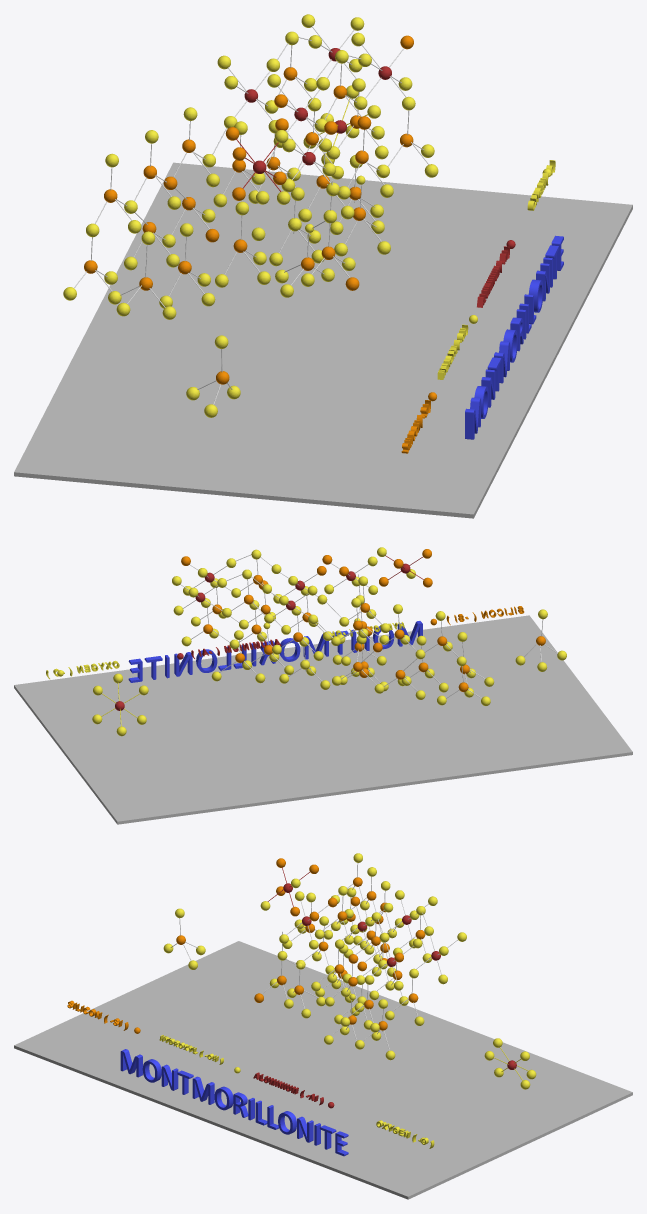
File: Bentonite.glb
3 renders of one model, top to bottom at view 1: azimuth 30°, elevation 25°; view 2: azimuth 150°, elevation 25°; view 3: azimuth 270°, elevation 25°, orthographic. The views are drawn at different scales.
Parts seen in each view (by area): view 1: Mesh.300, Group001, Mesh.215, Allumina__1_, Bento_1, bento, Allumina; view 2: Mesh.300, Group001, Mesh.215, Allumina, Allumina__1_, bento, Bento_1, Mesh.001; view 3: Mesh.300, Group001, Mesh.215, Allumina, Allumina__1_.
Part boxes in pixels (x1,y1,x2,y2): Mesh.300: [14, 162, 632, 518]; Group001: [63, 14, 438, 319]; Mesh.215: [465, 235, 563, 439]; Allumina__1_: [225, 127, 290, 204]; Bento_1: [86, 153, 141, 237]; bento: [186, 335, 240, 417]; Allumina: [303, 85, 380, 164]; Mesh.300: [14, 615, 632, 824]; Group001: [172, 549, 494, 705]; Mesh.215: [128, 621, 422, 682]; Allumina: [92, 673, 148, 736]; Allumina__1_: [377, 547, 432, 587]; bento: [515, 609, 566, 671]; Bento_1: [415, 611, 466, 666]; Mesh.001: [191, 639, 281, 658]; Mesh.300: [14, 941, 632, 1199]; Group001: [254, 867, 466, 1060]; Mesh.215: [120, 1049, 348, 1156]; Allumina: [484, 1038, 536, 1089]; Allumina__1_: [260, 858, 318, 916].
Bounding box in the file's own units: 9.52 × 3.09 × 9.73.
